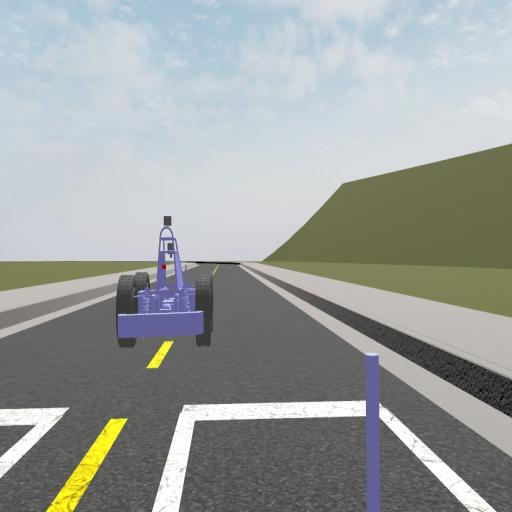ERP-42: (117, 214, 214, 348)
